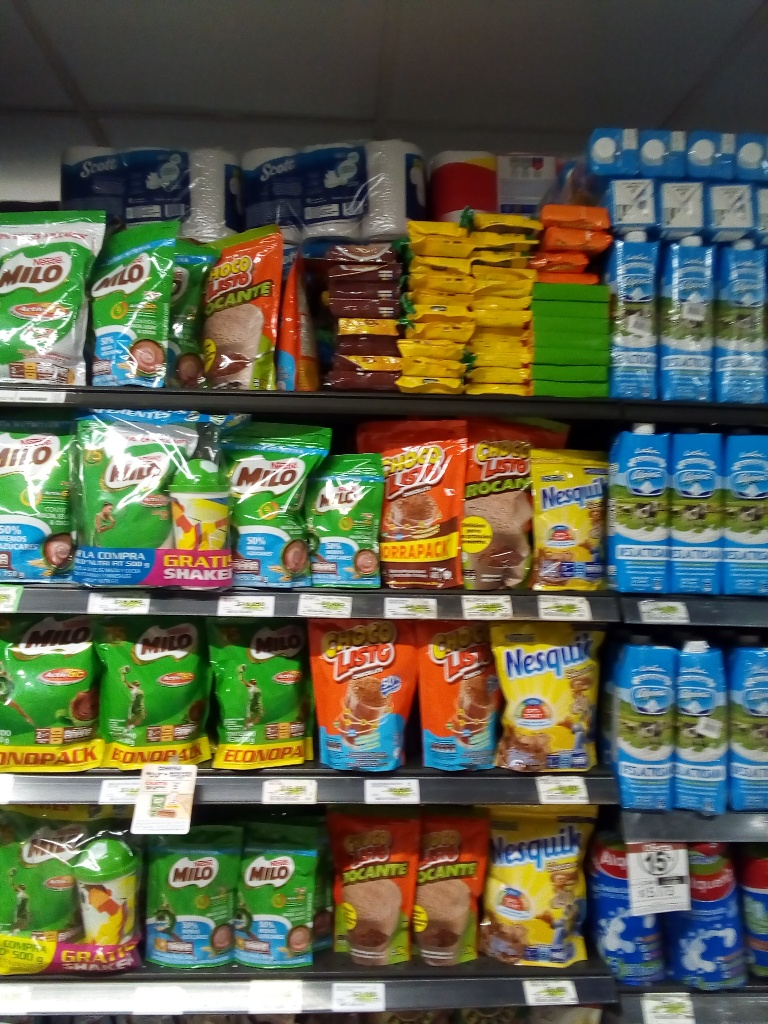COL0170102DYP25000: (207, 224, 282, 395)
COL0170102DYP50000: (463, 426, 569, 590)
COL0170103DYP44000: (359, 427, 459, 586)
COL0170203DYP50000: (203, 619, 315, 776)
COL0170205DYP20000: (302, 459, 383, 596)
COL0170205DYP50000: (1, 420, 73, 579)
COL0170303DYP20000: (527, 447, 609, 588)
